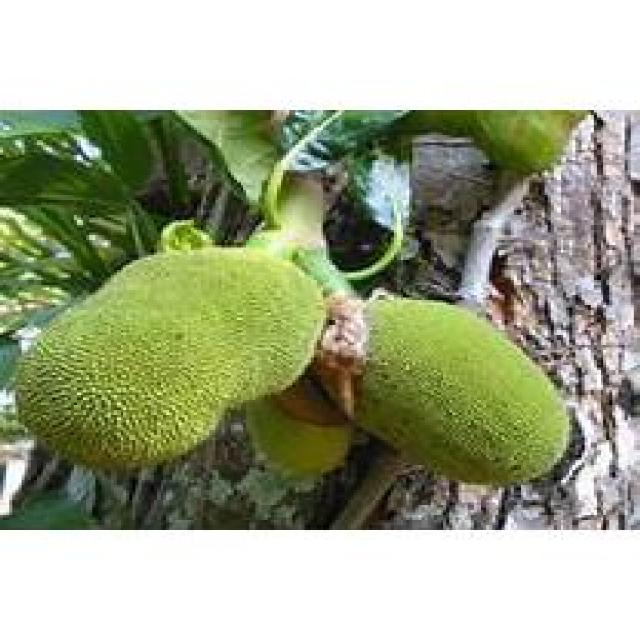Fruit: (6, 230, 342, 490), (336, 280, 582, 502)
